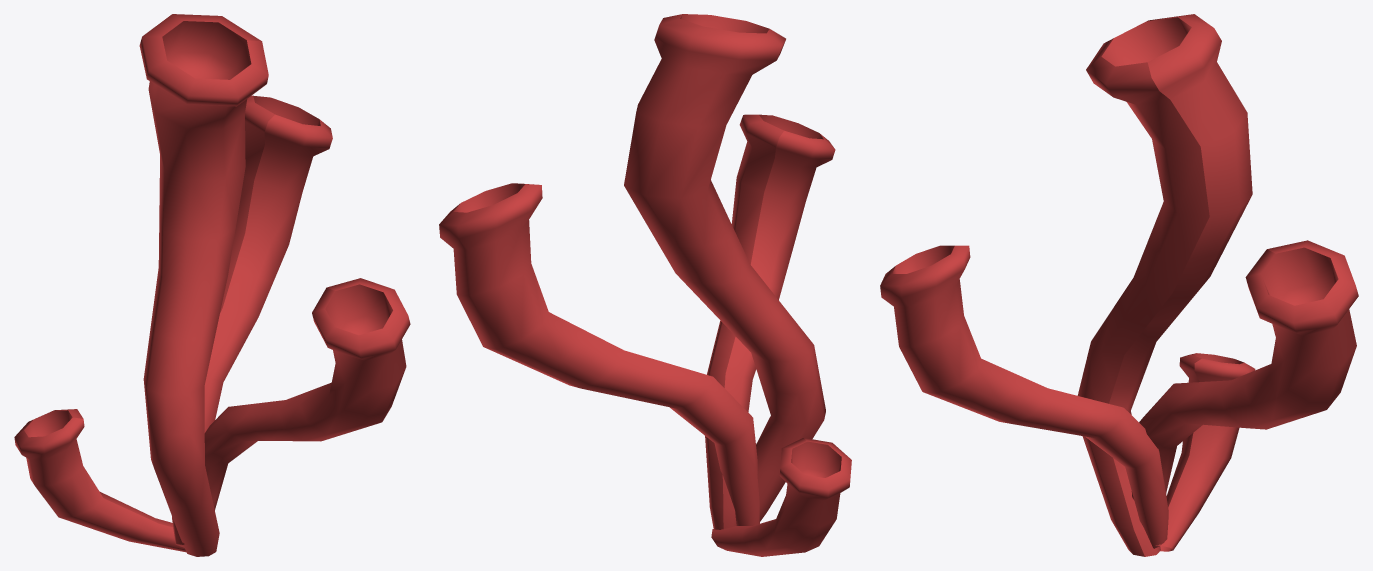
Rendered from kelp 5.gltf.
3 renders of one model, left to right at view 1: azimuth 30°, elevation 25°; view 2: azimuth 150°, elevation 25°; view 3: azimuth 270°, elevation 25°, orthographic. The views are drawn at different scales.
Visible parts, largest first — view 1: node-0; view 2: node-0; view 3: node-0.
Boxes of the visible parts, left/top/right/bottom form: node-0: left=14, top=14, right=410, bottom=556; node-0: left=439, top=14, right=851, bottom=556; node-0: left=880, top=14, right=1358, bottom=556.
Size of the model in its own units: 2 by 2.82 by 2.31.
